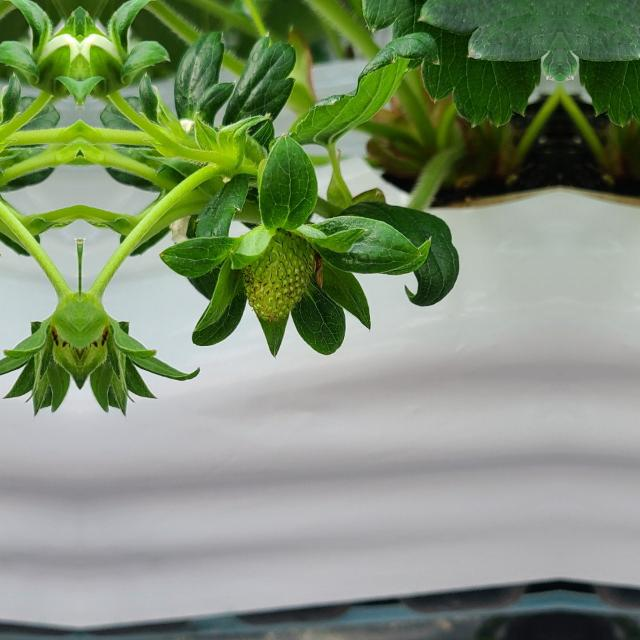Health_25: (243, 227, 313, 321)
